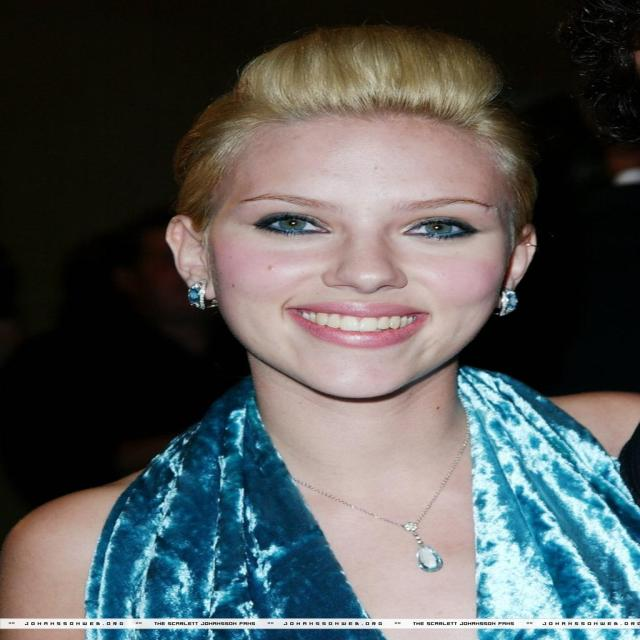Face: (239, 105, 519, 400)
